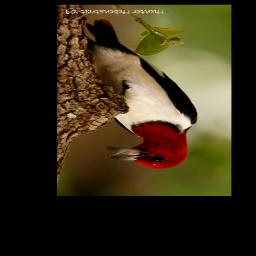Woodpecker: (86, 19, 198, 169)
